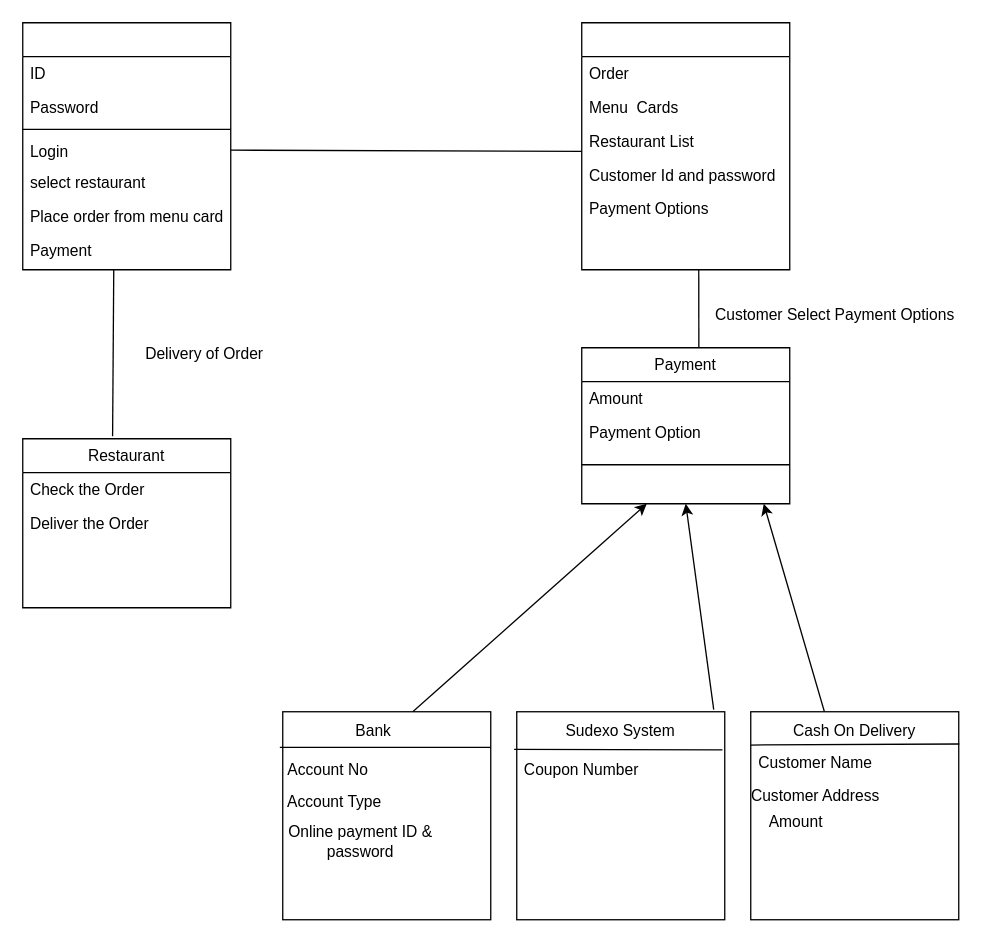
This 984x942 diagram has some shape labels left out. Here are the shapes that lost their labels. From the top down, the box of each, then its label:
(21, 21, 231, 270): Customer
(580, 21, 790, 270): System
